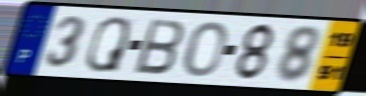3: (44, 14, 87, 70)
8: (275, 23, 321, 85), (233, 21, 278, 84)
B: (132, 17, 187, 77)
O: (182, 20, 229, 79)
Q: (84, 15, 132, 75)
